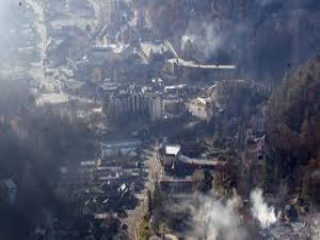smoke: (192, 182, 288, 234)
